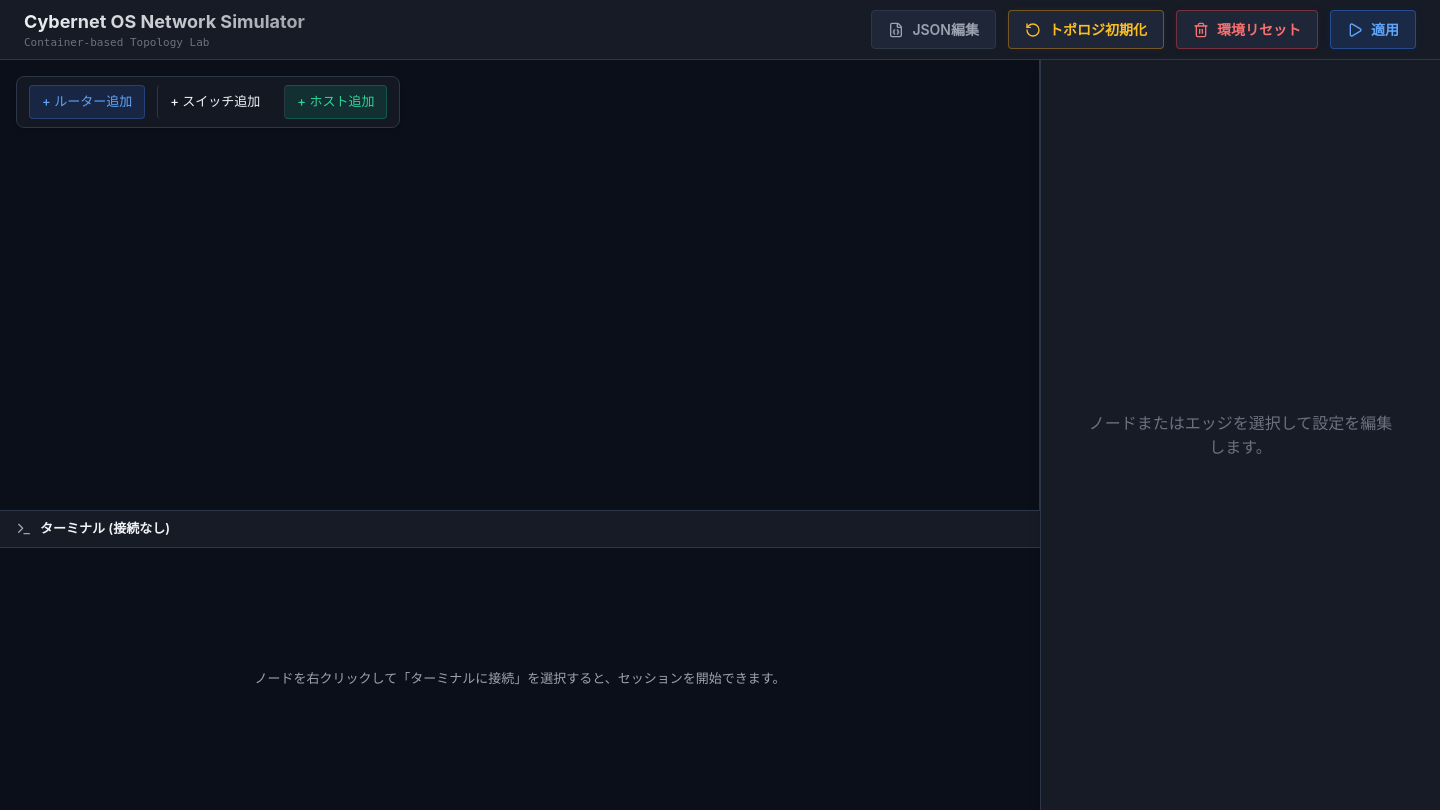
it: Topology Apply Integration Flow › 適用ボタン押下時に正しいスキーマでAPIリクエストが送られ、成功トーストが表示されること
The width and height of the screenshot is (1440, 810).
Click the button "適用". click: (1373,30)
box: [1330, 10, 1416, 49]
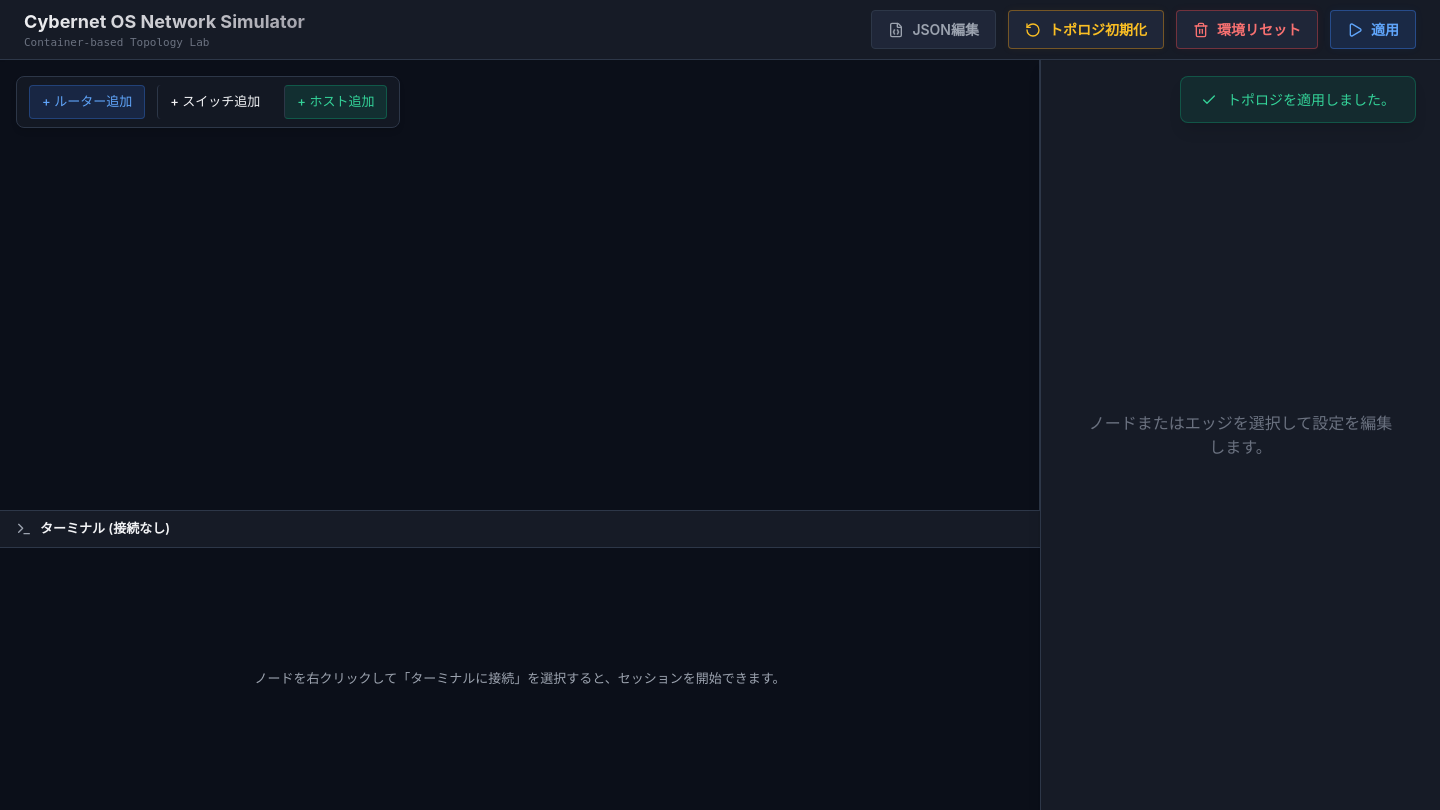
Check: the text "トポロジを適用しました。" is shown, box [1227, 89, 1395, 110]
